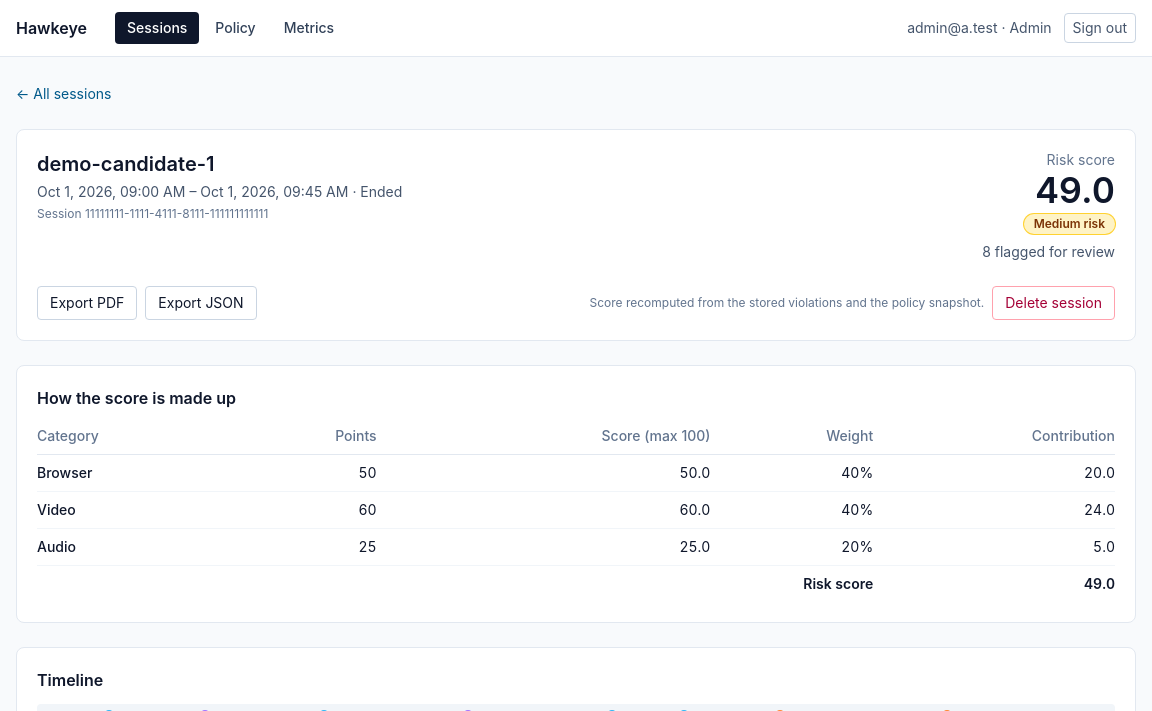
Scenario: deleting a session › keeps the report and says so when deleting fails
The image size is (1152, 711).
Step 1. Click the button "Delete session" → (1054, 303), box [992,286,1115,320]
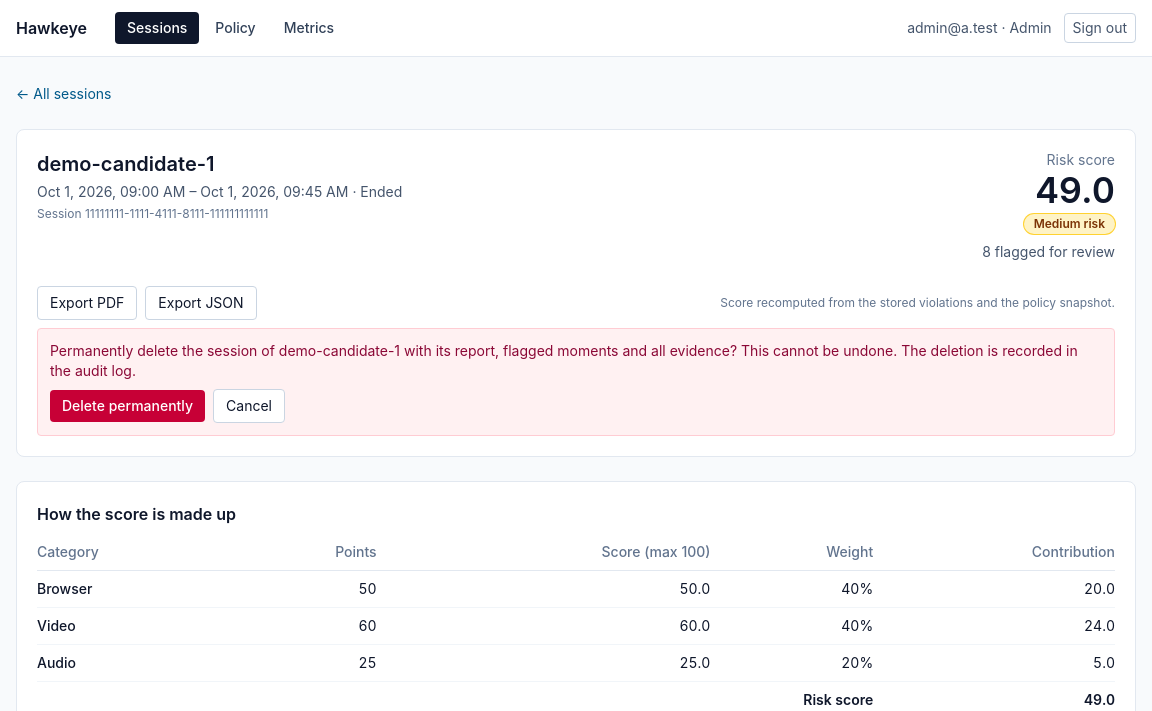
Step 2. Click the button "Delete permanently" → (128, 406), box [50,390,205,422]
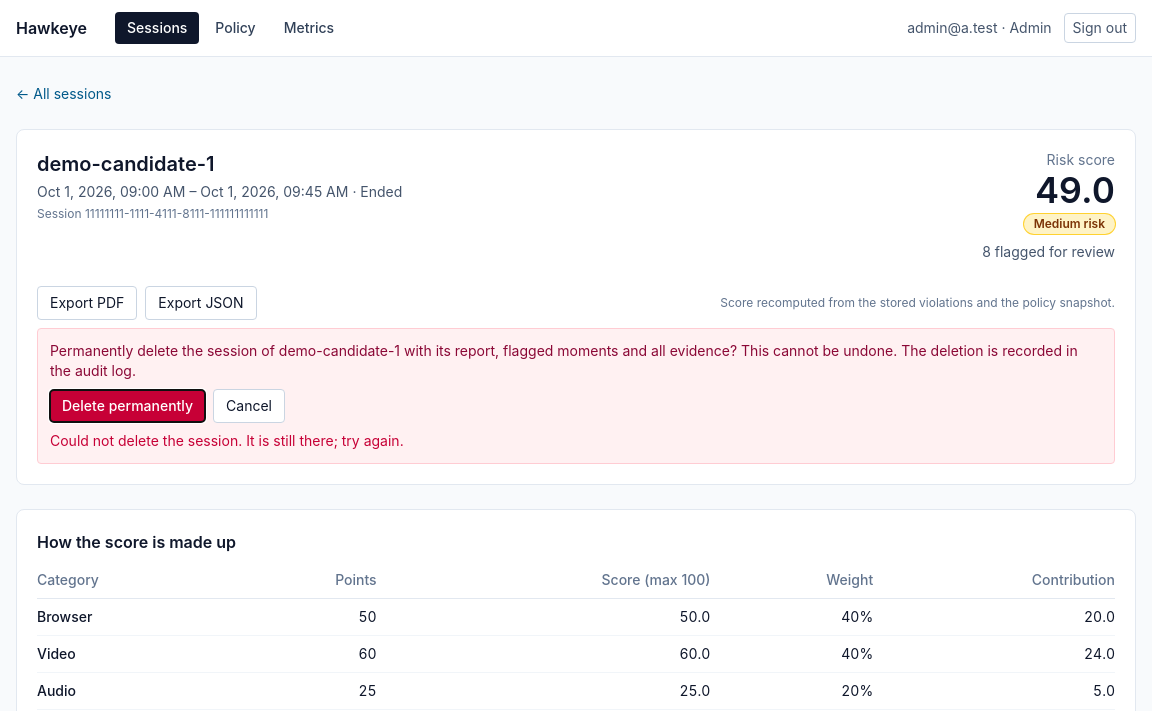
Now the message shows "Could not delete the session", box [50,432,404,449]
